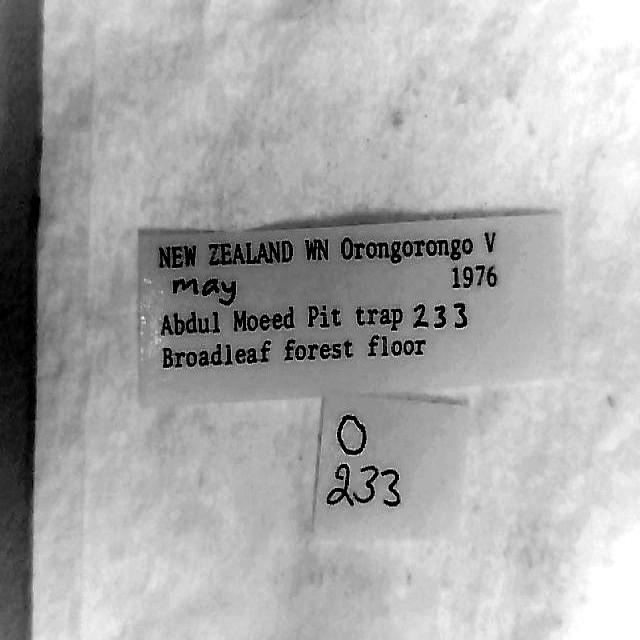hand_label: (314, 393, 468, 538)
mixed_label: (139, 213, 562, 402)
